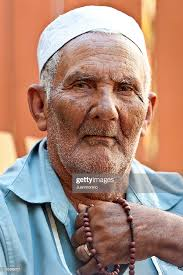middle_eastern_male: (45, 37, 150, 176)
